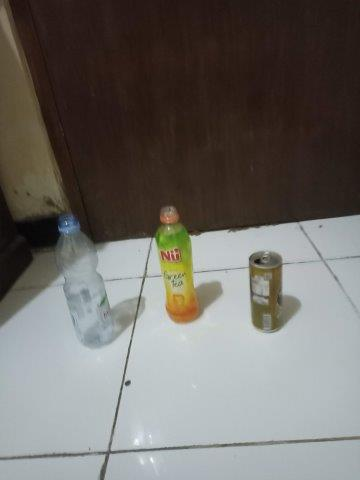botolplastik: (54, 214, 118, 349), (155, 205, 201, 324)
kaleng: (248, 250, 284, 334)
